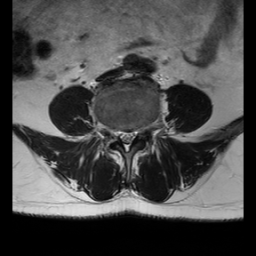CCS_normal: (122, 123, 129, 158)
LFS_stenosis: (137, 120, 145, 143)
LLS_stenosis: (129, 123, 137, 146)
RFS_normal: (107, 120, 115, 150)
RLS_stenosis: (115, 123, 122, 147)
